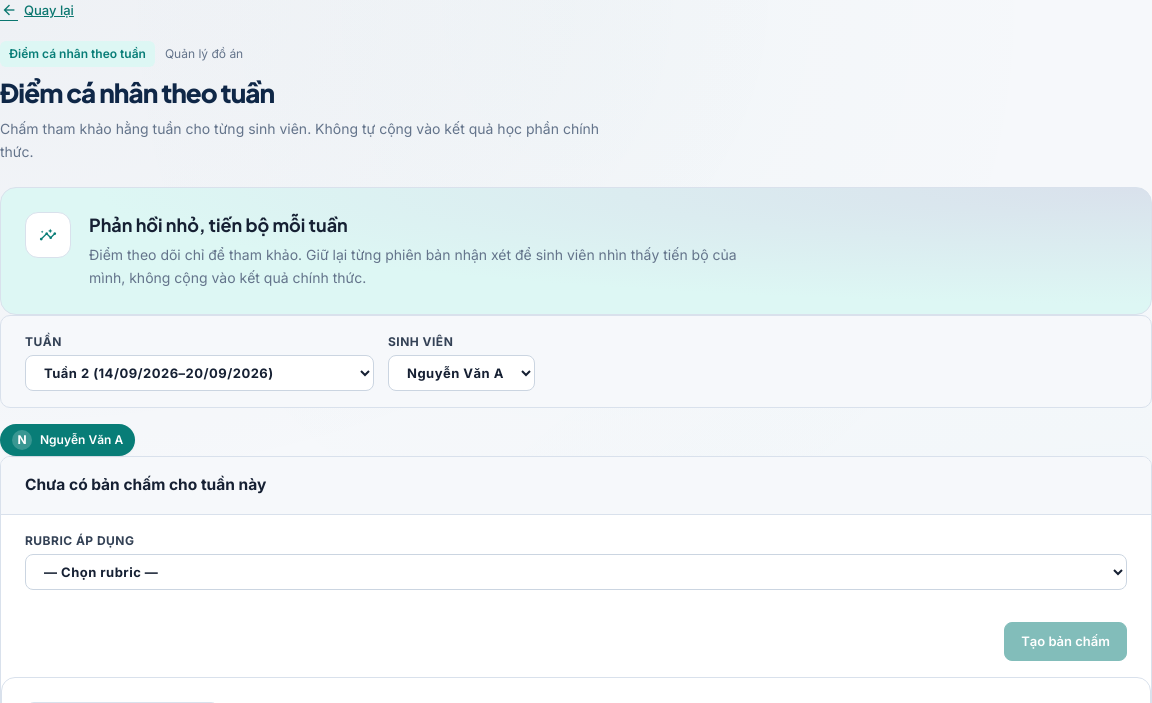
Test case: Weekly assessments page › blocks editing a week that has not started yet
Expected: the dropdown labelled "Rubric áp dụng" is shown, [25,554,1127,590]
Select "Tuần 3 (21/09/2026–27/09/2026) • Chưa tới" in the dropdown labelled "Tuần". click: (200, 374)
box: [25,356,374,392]
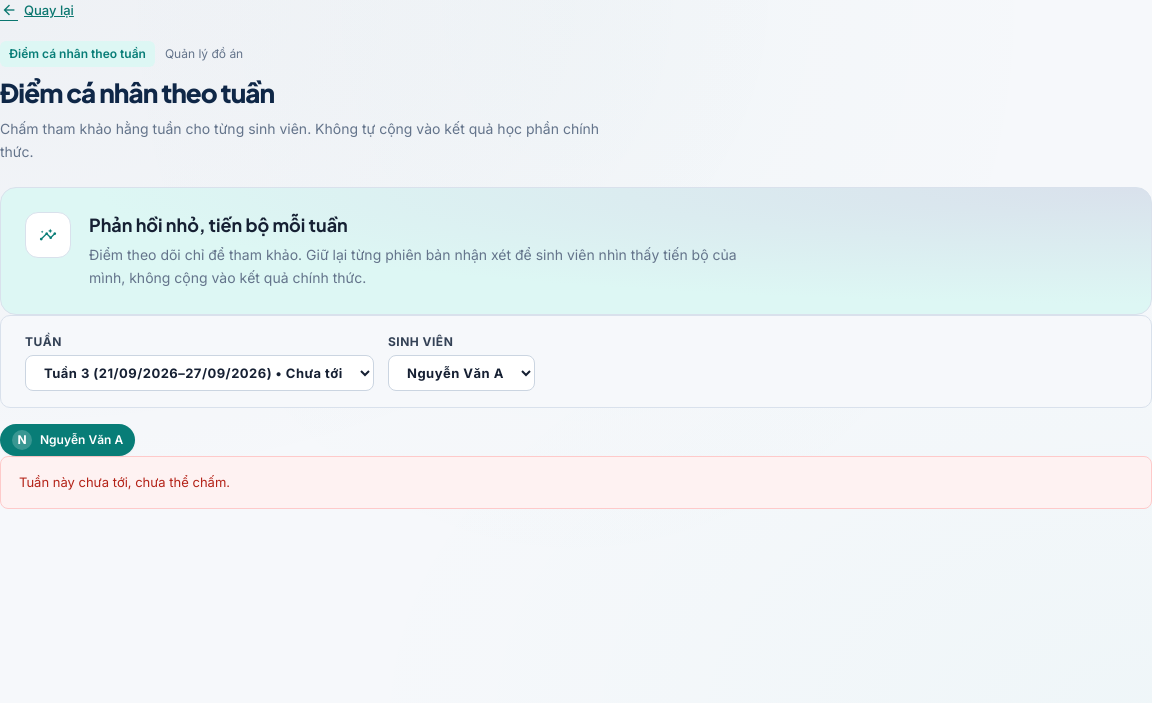
Expected: the text "Tuần này chưa tới, chưa thể chấm." is shown, [0,456,1151,509]
